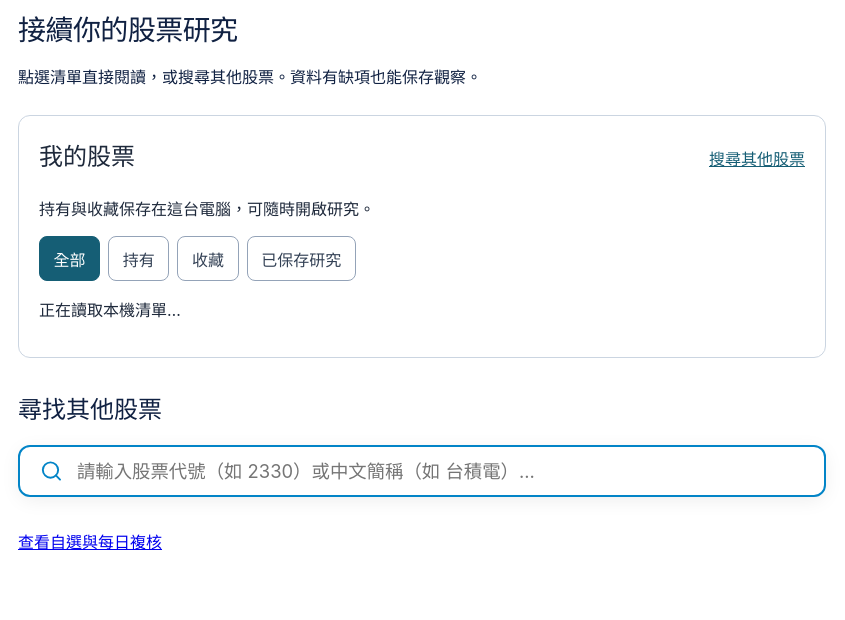
it: guided search reliability › ignores a late response when the user quickly changes symbols
Type "台積電" into the field named "搜尋股票代號或中文名稱" at x=439, y=471, box [75,459,804,483]
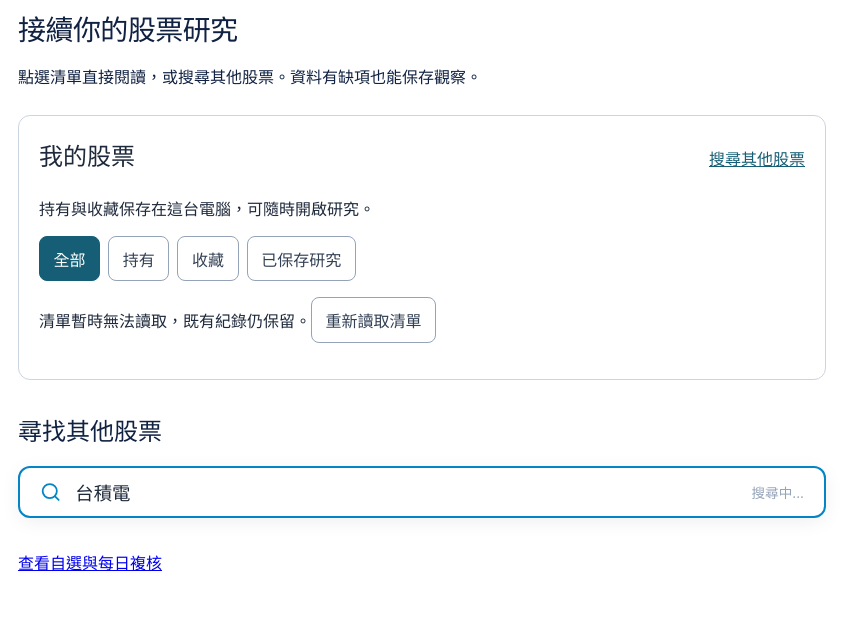
Replace the text in the field named "搜尋股票代號或中文名稱" with "南亞科" at x=412, y=492, box [73,480,752,504]
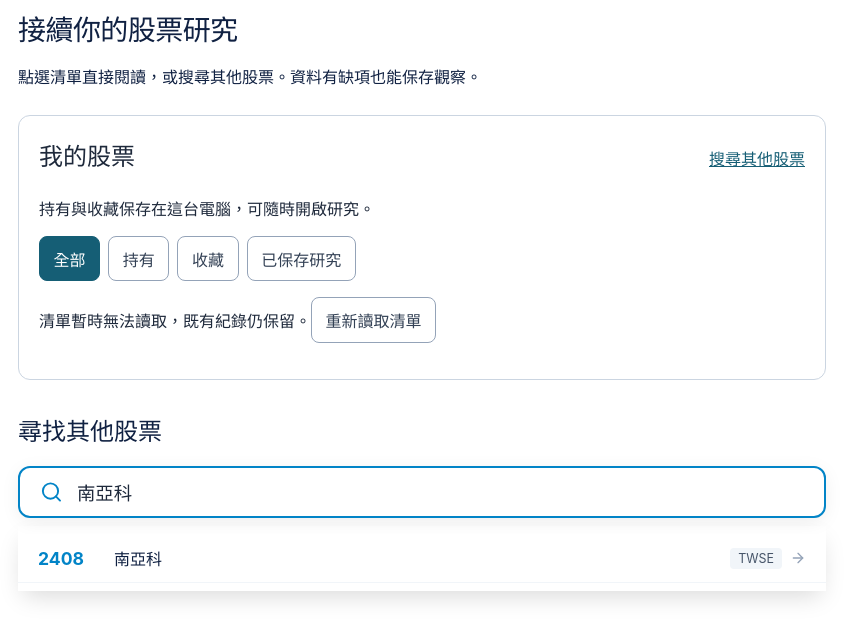
Now the button "2408 南亞科 TWSE" is shown, box [18,534,826,584]
